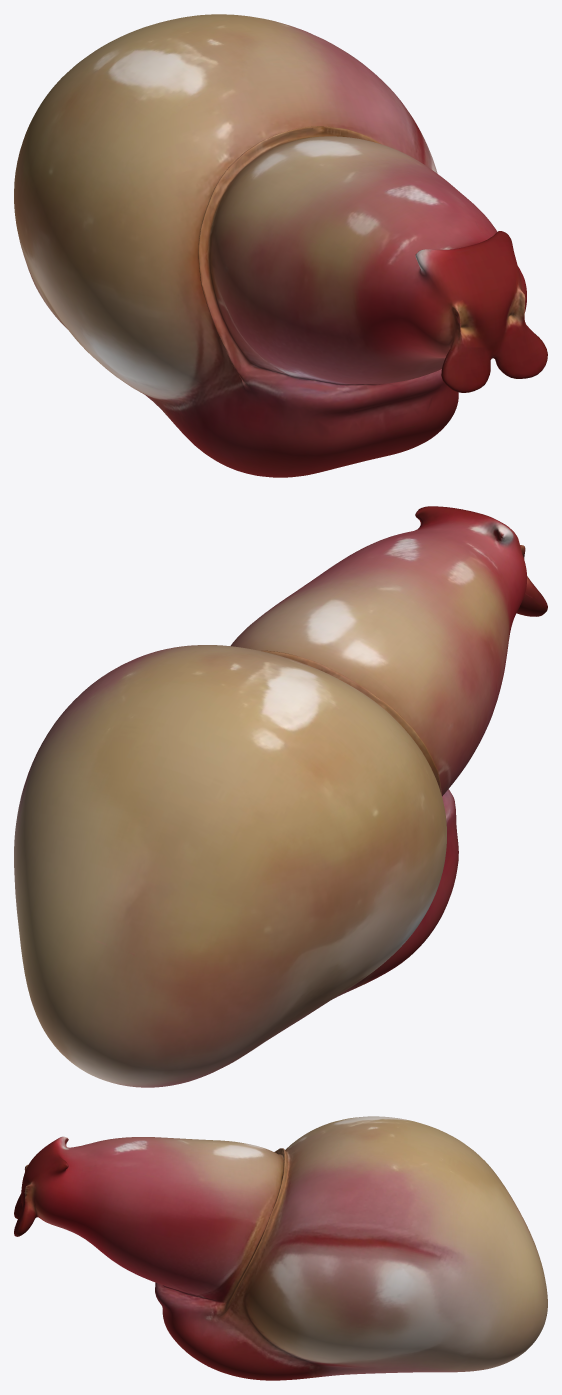
Rendered from fatty-liver.glb.
3 views of the same model, one above another, from view 1: azimuth 30°, elevation 25°; view 2: azimuth 150°, elevation 25°; view 3: azimuth 270°, elevation 25° (orthographic). The views are drawn at different scales.
Visible parts, largest first — view 1: model; view 2: model; view 3: model.
Part boxes in pixels (x1=…): model: x1=14, y1=14, x2=547, y2=477; model: x1=14, y1=506, x2=547, y2=1087; model: x1=14, y1=1116, x2=547, y2=1380.
Size of the model in its own units: 0.9447 by 0.9049 by 1.9.
1 material, 1 textured.
